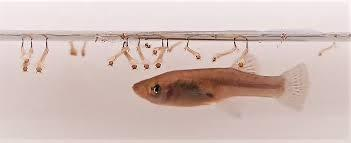Mosquito Fish: (123, 49, 313, 124)
